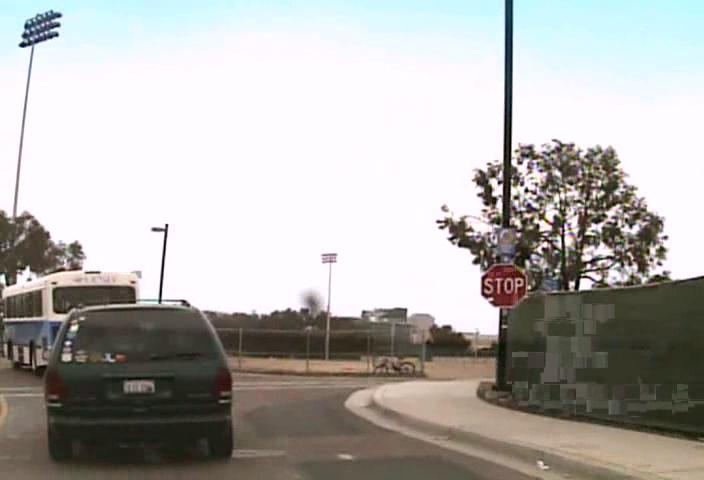stop: (480, 262, 527, 308)
